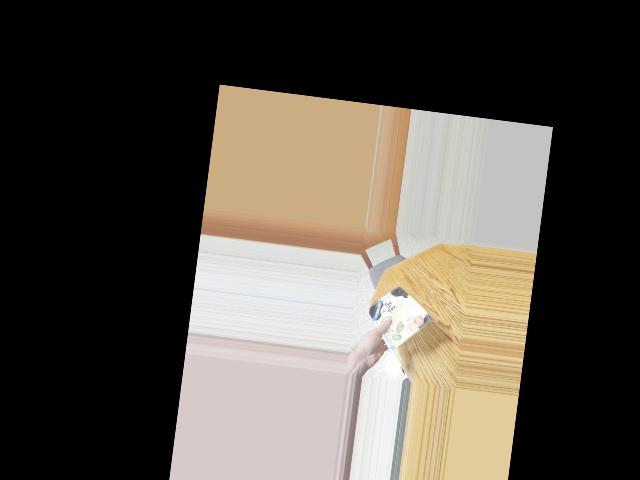cheese: (365, 289, 426, 343)
